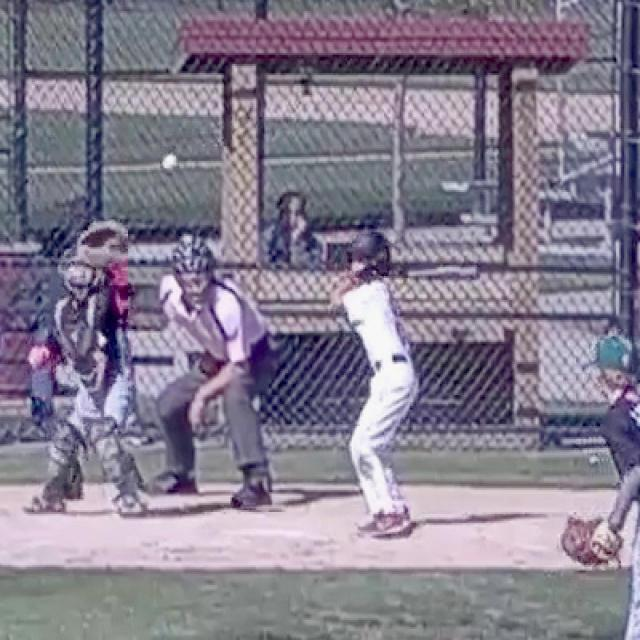baseball: (163, 155, 177, 168)
